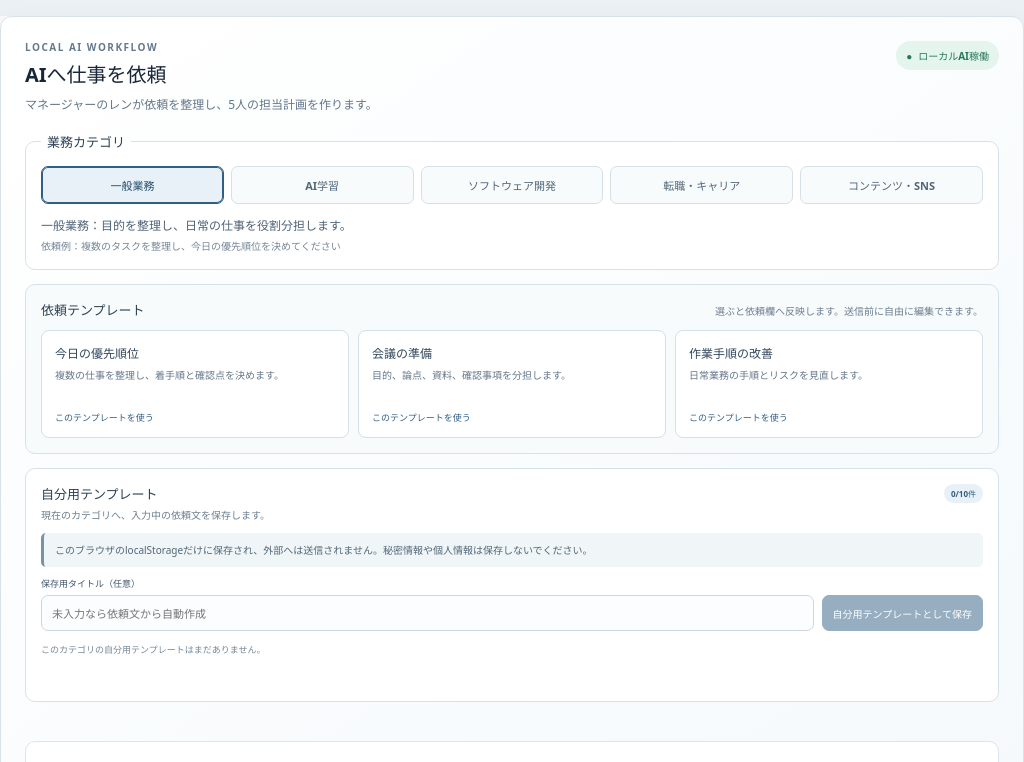
Scenario: TaskRequestSection › applies a template, focuses the textarea, announces it, and does not submit
The image size is (1024, 762).
Click the button with aria-label "今日の優先順位を依頼欄へ反映". click: (195, 384)
box: [41,330,349,438]
(page scrolled)
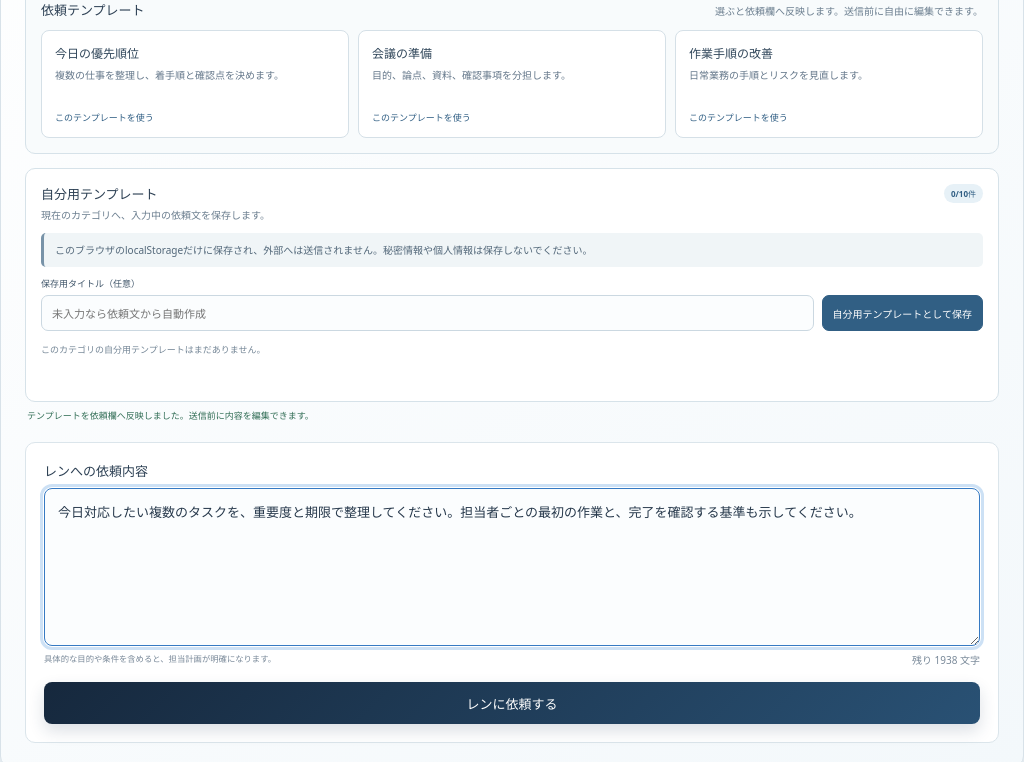
Result: the text box labelled "レンへの依頼内容" holds "今日対応したい複数のタスクを、重要度と期限で整理してください。担当者ごとの最初の作業と、完了を確認する基準も示してください。" at [44,488,980,646]
Result: the text "テンプレートを依頼欄へ反映しました。送信前に内容を編集できます。" is shown at [27,409,314,422]
